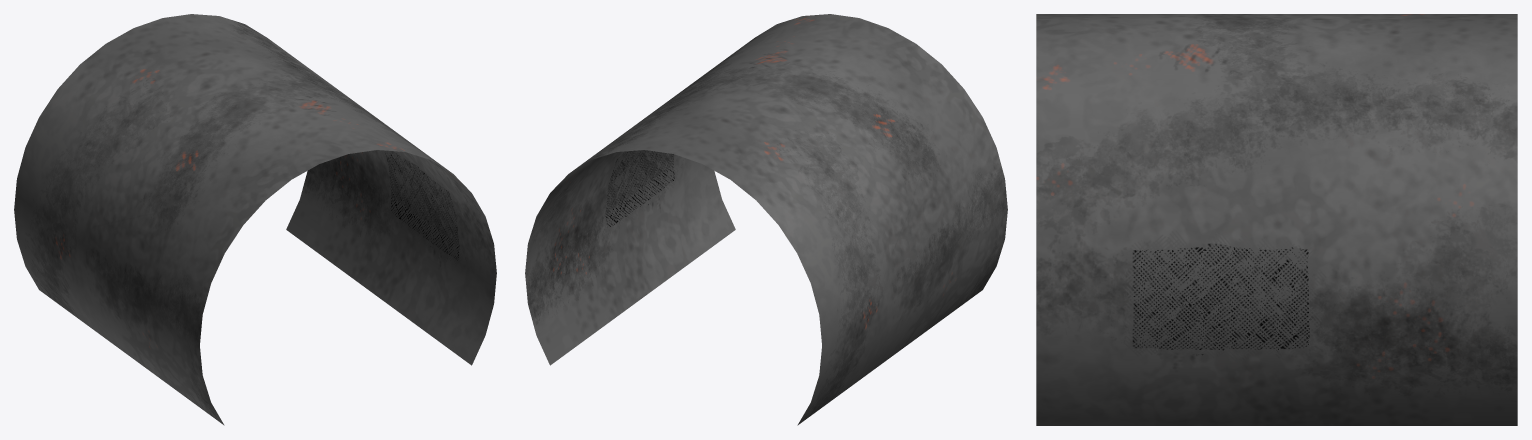
Rendered from wall.fbx.
The picture shows the model from 3 angles, left to right: view 1: azimuth 30°, elevation 25°; view 2: azimuth 150°, elevation 25°; view 3: azimuth 270°, elevation 25°; orthographic projection. The views are drawn at different scales.
Parts seen in each view (by area): view 1: wall; view 2: wall; view 3: wall.
Boxes of the visible parts, x1,y1,x2,y2 form: wall: (14,14,496,425); wall: (525,14,1007,425); wall: (1036,14,1517,425).
Bounding box in the file's own units: 645 × 501 × 698.
1 material, 1 textured.
